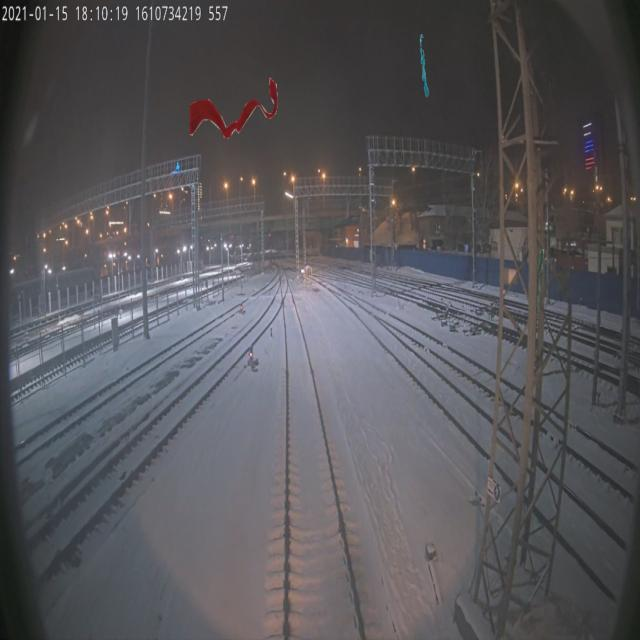floating object: (188, 76, 278, 140), (420, 33, 429, 97), (536, 248, 544, 312)
